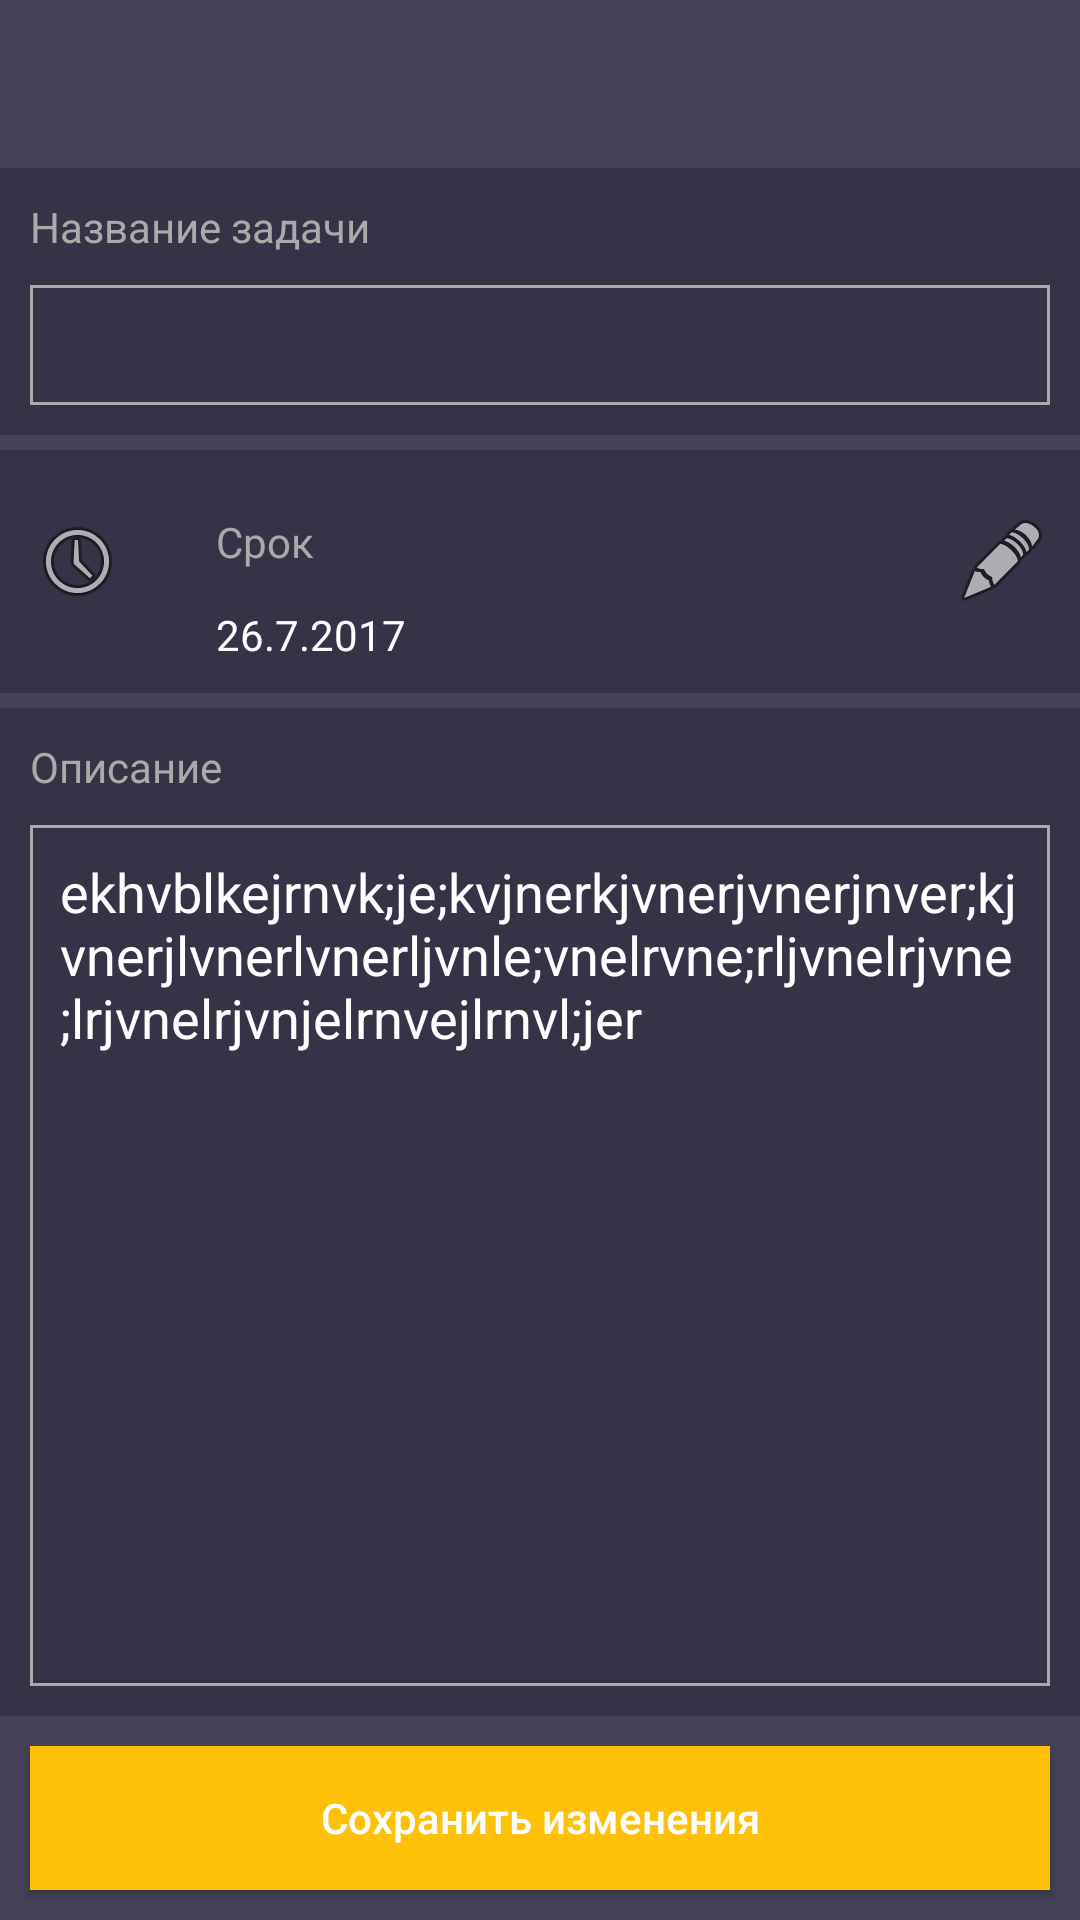

Screen size 1080px x 1920px. Icon name, then its center in pixels as point (x, y):
edit: point (1002, 560)
recent history: point (77, 561)
